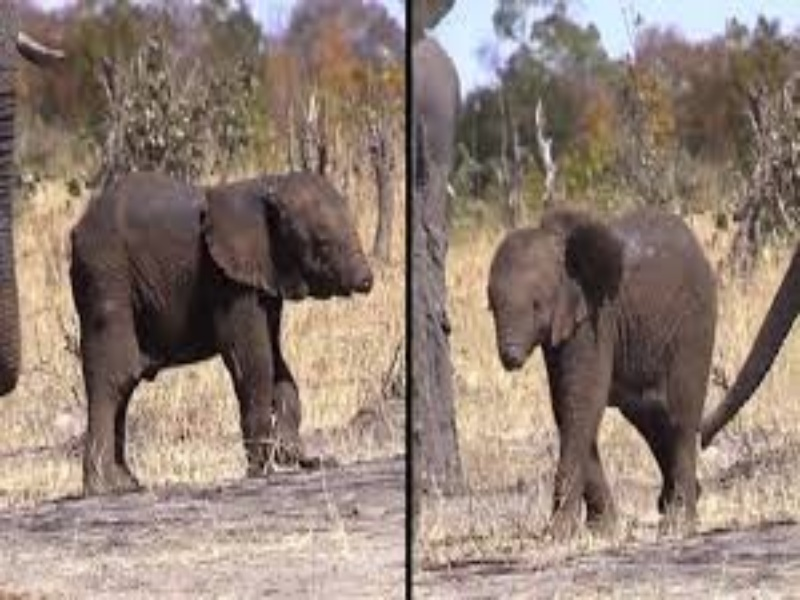elephant: (55, 65, 392, 564), (452, 165, 748, 547)
